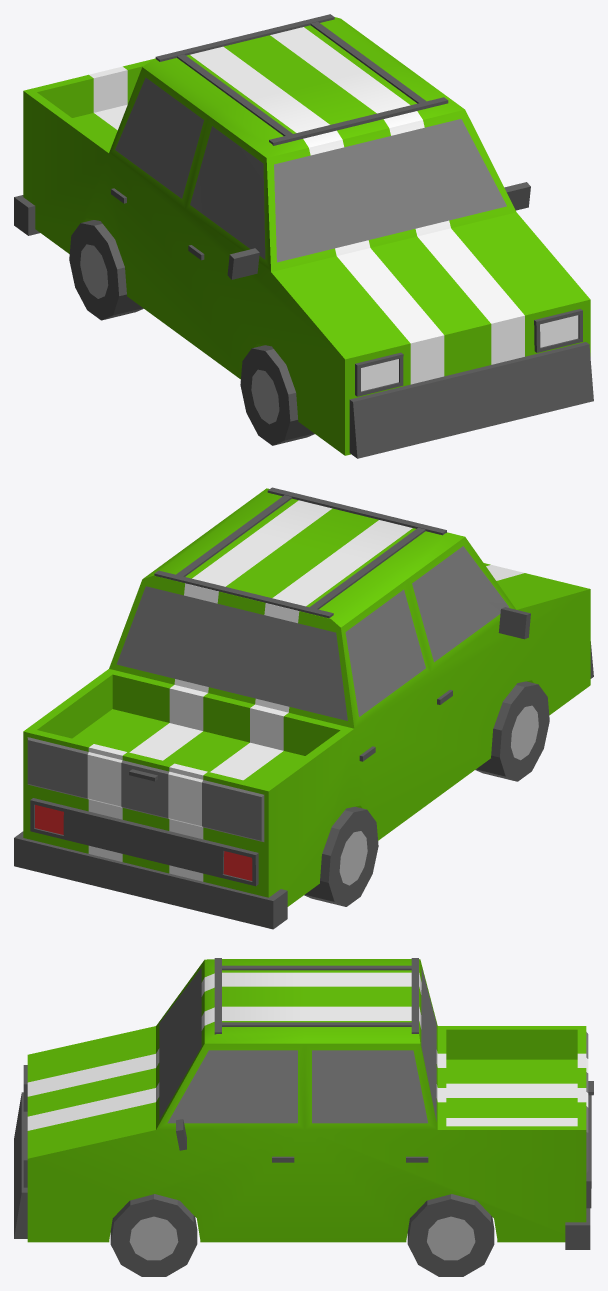
Rendered from SM_Car_10_02.FBX.
3 views of the same model, one above another, from view 1: azimuth 30°, elevation 25°; view 2: azimuth 150°, elevation 25°; view 3: azimuth 270°, elevation 25° (orthographic). The views are drawn at different scales.
Parts seen in each view (by area): view 1: SM_Car_10_02, SM_Wheel_LFront002, SM_Wheel_RBack001; view 2: SM_Car_10_02, SM_Wheel_LFront002, SM_Wheel_RBack001; view 3: SM_Car_10_02, SM_Wheel_LFront001, SM_Wheel_LBack001.
Part boxes in pixels (x1,y1,x2,y2): SM_Car_10_02: [14, 14, 593, 458]; SM_Wheel_LFront002: [240, 345, 314, 445]; SM_Wheel_RBack001: [69, 220, 143, 320]; SM_Car_10_02: [14, 487, 593, 929]; SM_Wheel_LFront002: [475, 681, 549, 781]; SM_Wheel_RBack001: [304, 806, 378, 906]; SM_Car_10_02: [14, 958, 593, 1249]; SM_Wheel_LFront001: [110, 1194, 197, 1276]; SM_Wheel_LBack001: [407, 1194, 494, 1276].
Bounding box in the file's own units: 1.7 × 1.43 × 3.31.
1 material, 1 textured.
